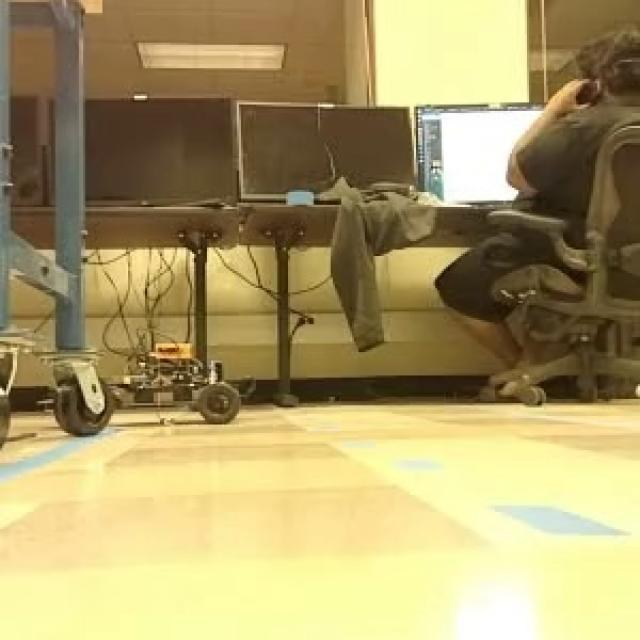obstacle: (111, 346, 240, 424)
